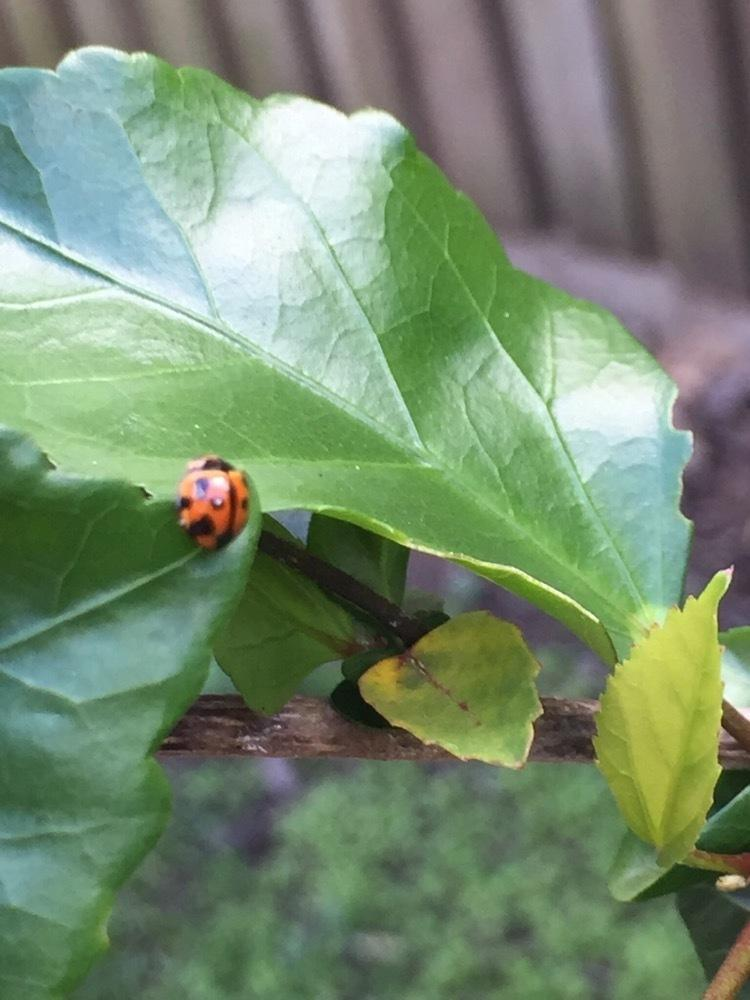ladybug: (176, 456, 256, 554)
